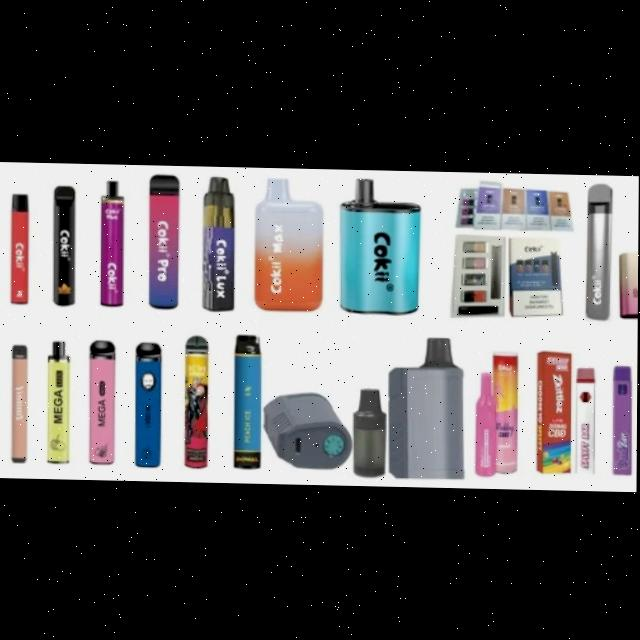vape: (340, 177, 421, 314), (388, 335, 465, 478), (255, 177, 324, 311), (263, 391, 354, 468), (202, 177, 235, 311), (149, 175, 180, 309), (586, 181, 613, 318), (235, 334, 262, 469), (89, 340, 117, 466), (135, 342, 162, 467), (185, 335, 209, 468), (354, 387, 387, 476), (101, 180, 124, 306), (48, 340, 71, 464), (53, 186, 76, 306), (476, 370, 497, 475), (11, 194, 30, 305), (613, 363, 632, 473), (577, 366, 596, 473), (11, 345, 28, 464), (491, 242, 504, 297), (552, 248, 559, 283)
